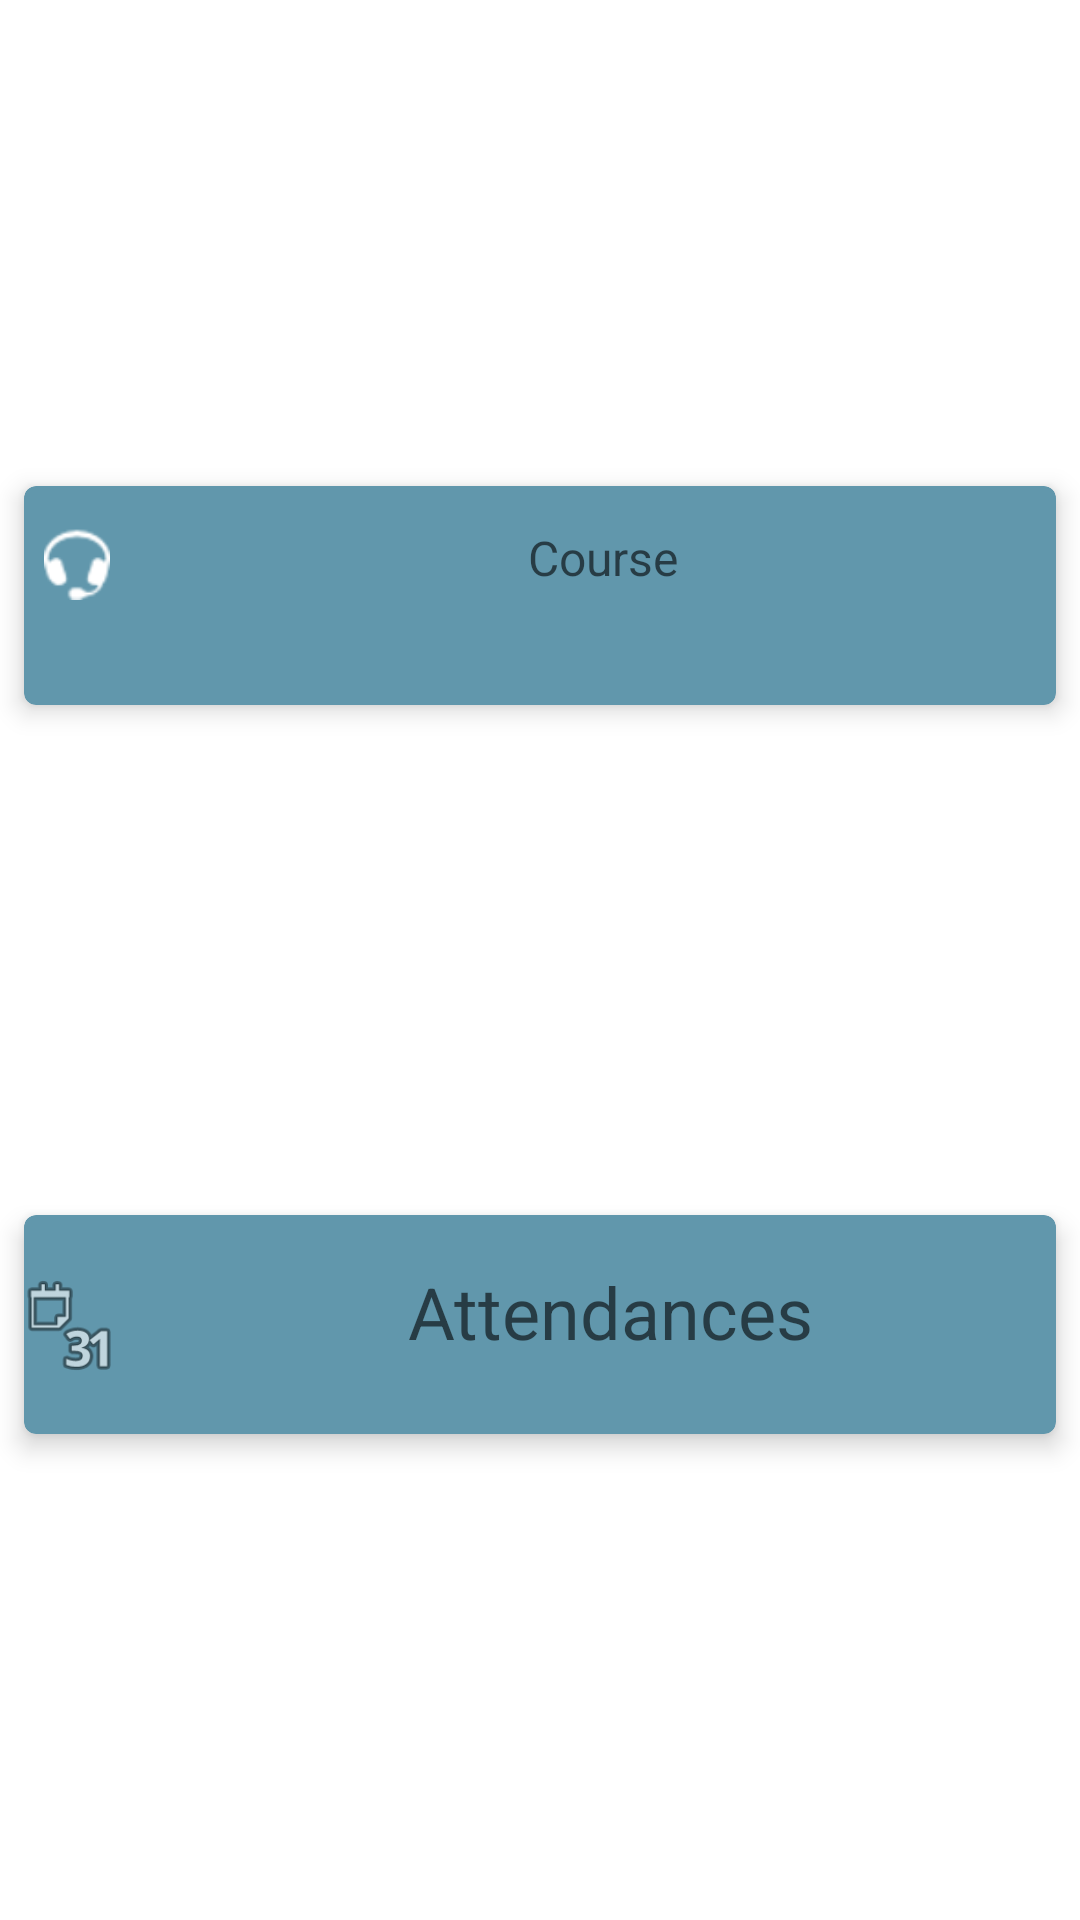

Where icons sit on this 1080×1920 app screen, as bbox=[x1, y1, x2, y2]:
headset: bbox=[44, 529, 110, 600]
